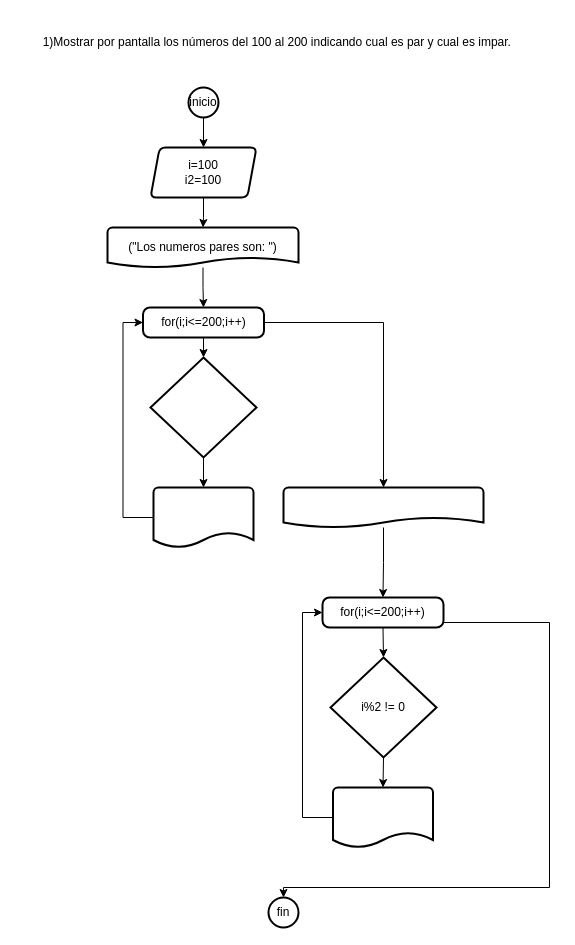
Image size: 575x945. Some labels were removed from this diagram. The shapes that lost their labels are listed below. From the top down, each one's centre as x and y in pixels, then its label:
(203,407): i%2 == 0
(203,517): ("- %d",i)
(383,507): ("Los numeros impares son: ")
(383,817): ("- %d ",i)
